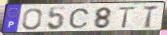5: (46, 6, 67, 32)
8: (94, 6, 114, 30)
C: (68, 7, 91, 29)
O: (21, 8, 44, 31)
T: (117, 6, 138, 29), (142, 5, 160, 30)
